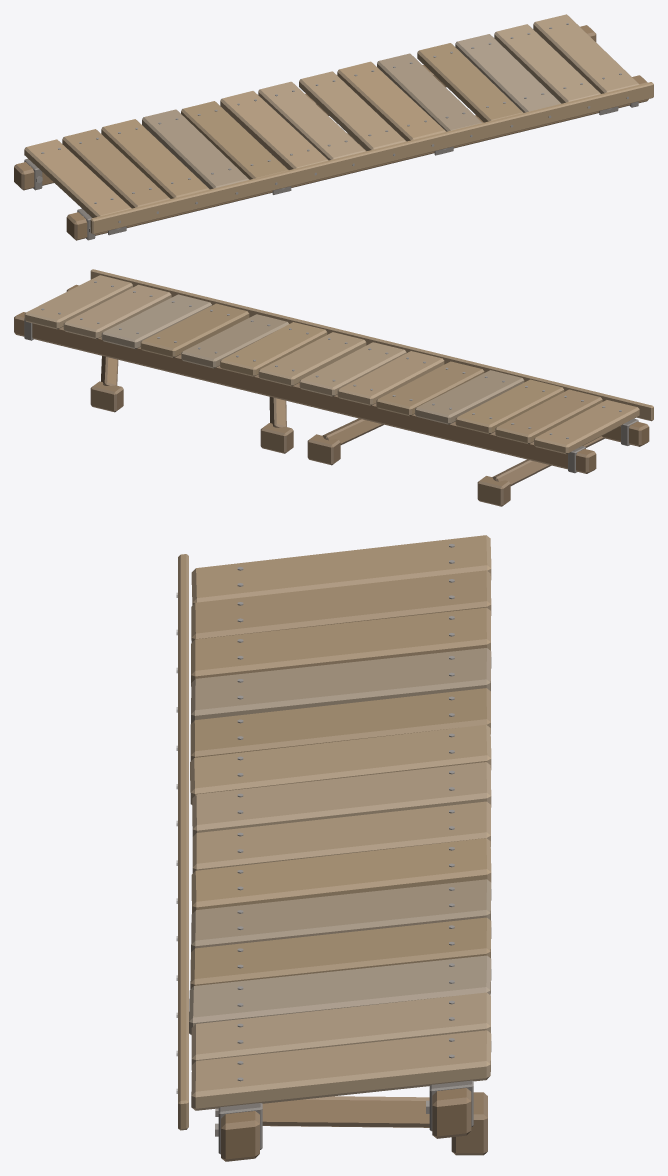
Rendered from platform_bracket_420.glb.
3 renders of one model, top to bottom at view 1: azimuth 30°, elevation 25°; view 2: azimuth 150°, elevation 25°; view 3: azimuth 270°, elevation 25°, orthographic. The views are drawn at different scales.
Visible parts, largest first — view 1: Wood, Iron; view 2: Wood, Iron; view 3: Wood, Iron.
Part boxes in pixels (x1,y1,x2,y2): Wood: [14, 14, 653, 240]; Iron: [24, 23, 638, 240]; Wood: [14, 269, 653, 506]; Iron: [24, 281, 638, 473]; Wood: [178, 535, 491, 1161]; Iron: [176, 544, 473, 1154].
Size of the model in its own units: 4.4 by 0.583 by 1.04.
